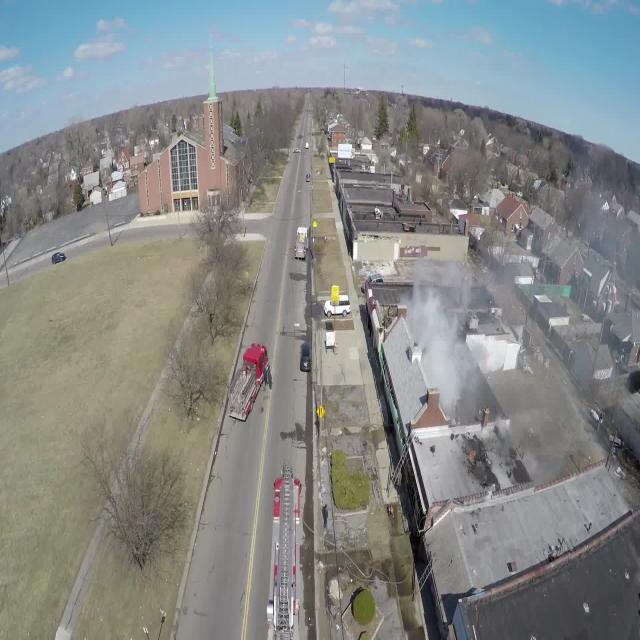smoke: (423, 299, 459, 400)
